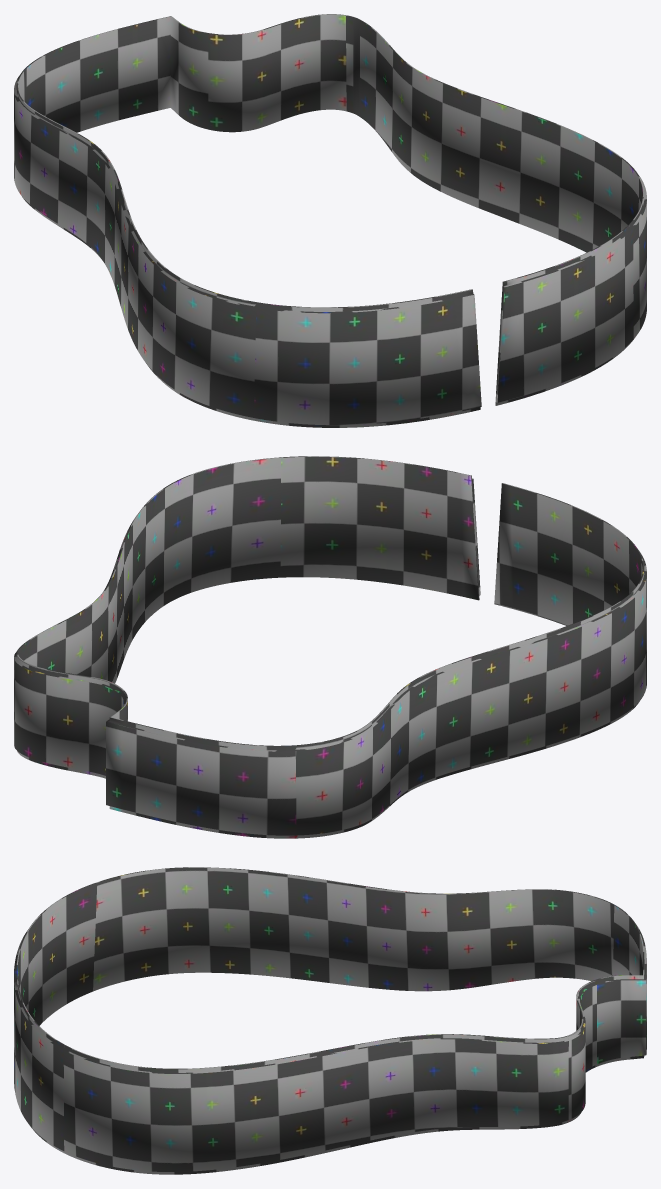
Rendered from sides-transformed.glb.
The picture shows the model from 3 angles, top to bottom: view 1: azimuth 30°, elevation 25°; view 2: azimuth 150°, elevation 25°; view 3: azimuth 270°, elevation 25°; orthographic projection. The views are drawn at different scales.
Visible parts, largest first — view 1: sides; view 2: sides; view 3: sides.
Boxes of the visible parts, <box> form: sides: <box>14,14,646,427</box>; sides: <box>14,456,646,838</box>; sides: <box>14,867,646,1174</box>.
Bounding box in the file's own units: 392 × 107 × 514.
Materials: 1 (1 with a texture image).
